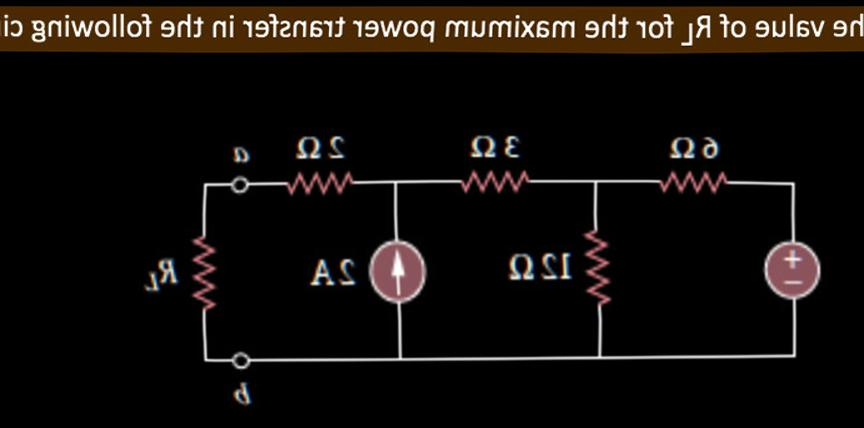Battery: (750, 226, 832, 317)
